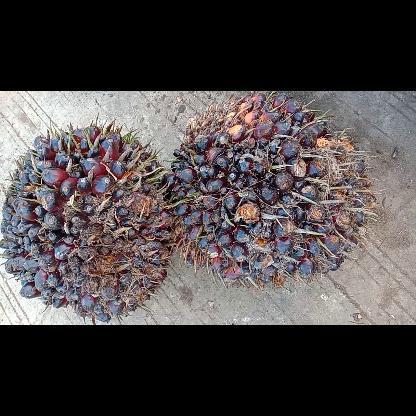TBS mentah: (167, 91, 375, 283), (0, 124, 170, 320)
